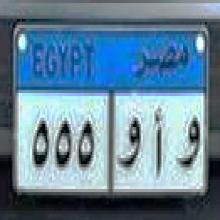5: (30, 111, 51, 174), (77, 113, 97, 176), (52, 117, 74, 174)
alif: (151, 104, 165, 179)
waw: (174, 106, 201, 179), (116, 113, 141, 178)
